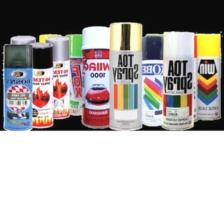aerosol_cans: (106, 16, 146, 132), (158, 29, 197, 131), (79, 22, 114, 129), (17, 38, 54, 129), (58, 29, 94, 117), (0, 41, 35, 131), (38, 33, 73, 122), (135, 33, 167, 128), (190, 30, 223, 122)
